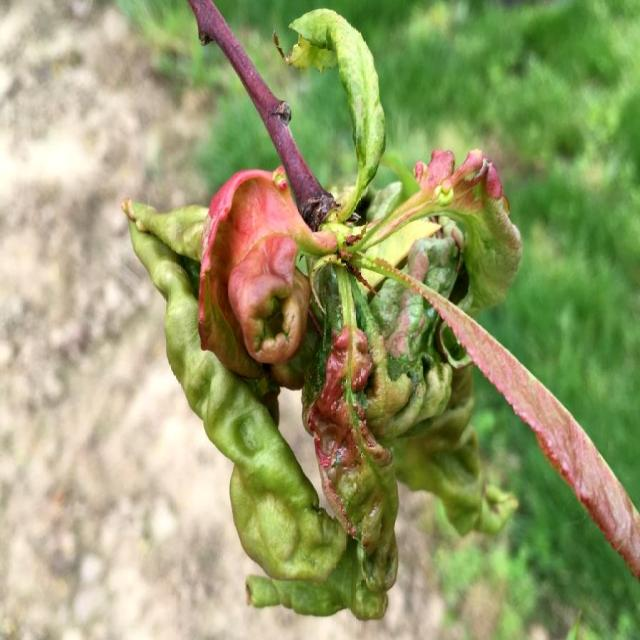peach_leaf_curl: (357, 69, 527, 546), (196, 164, 337, 382)
